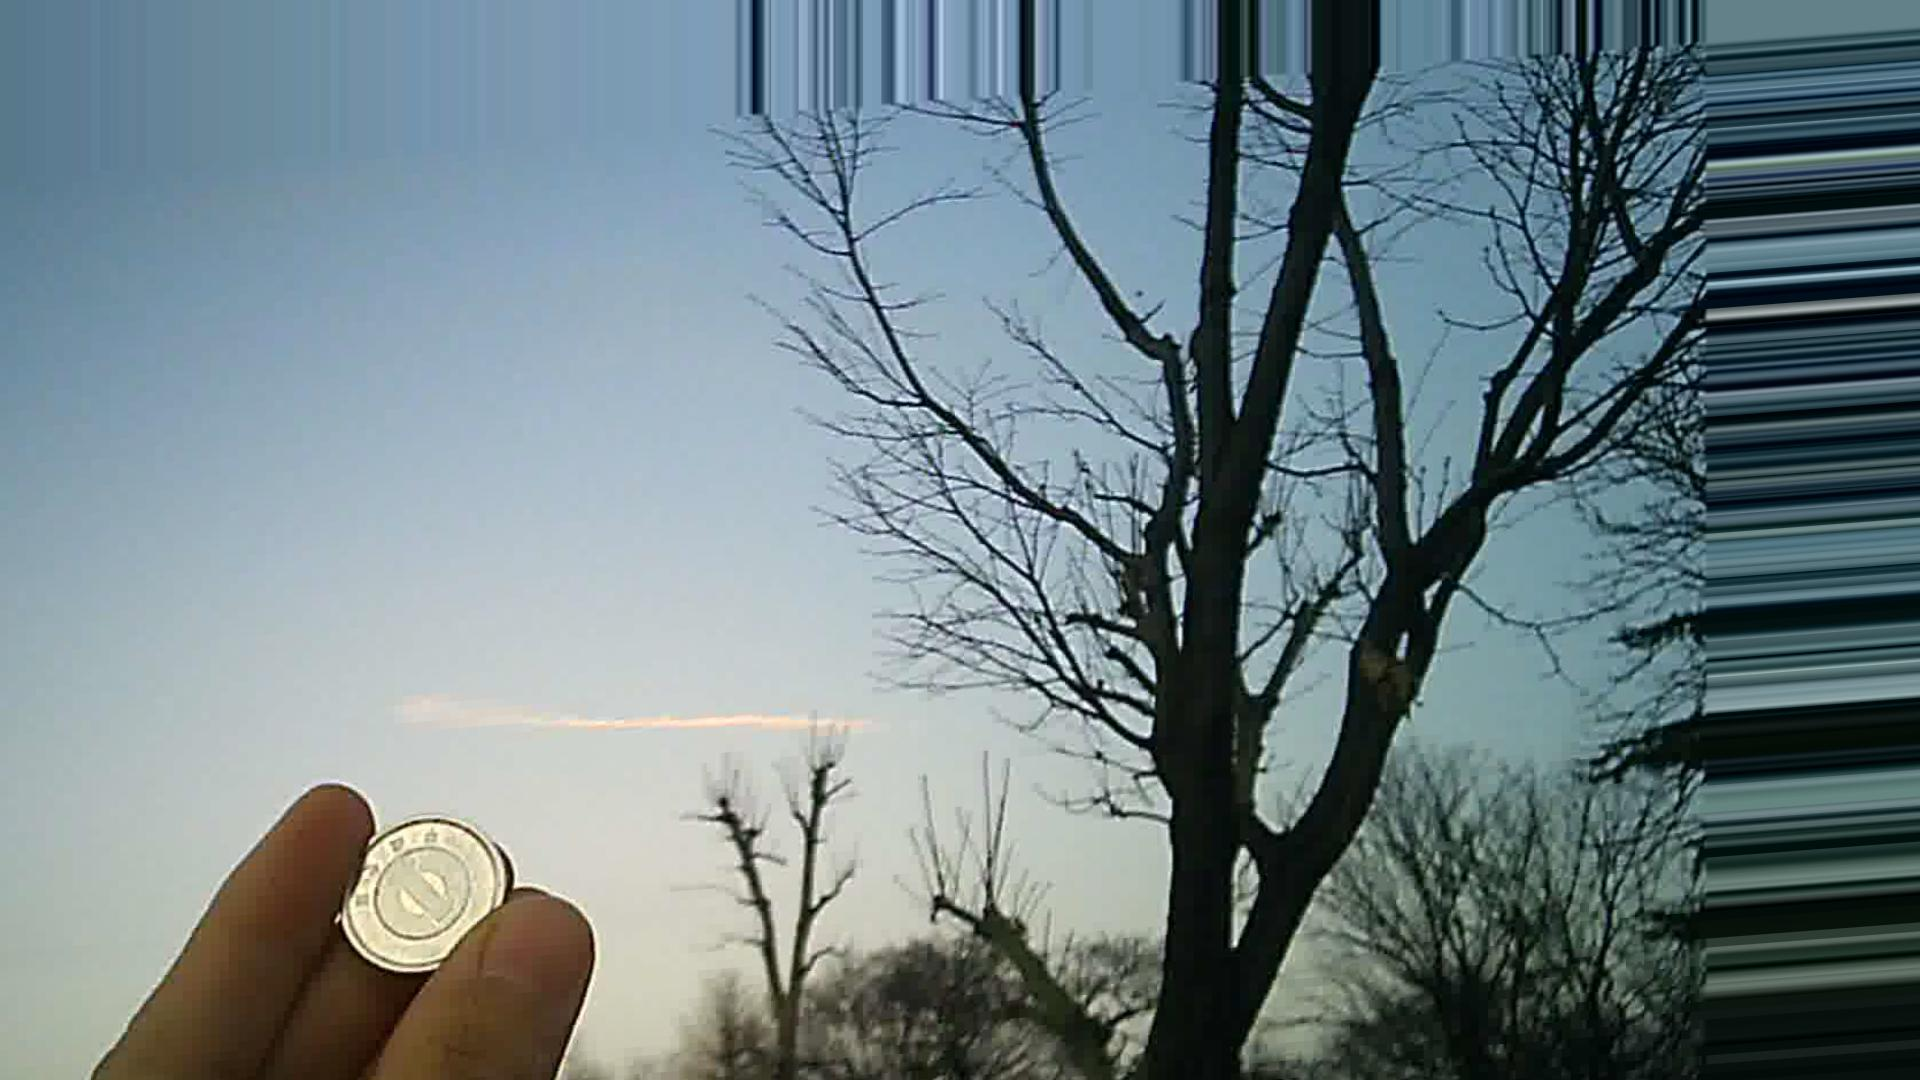1 Yen: (318, 807, 502, 977)
